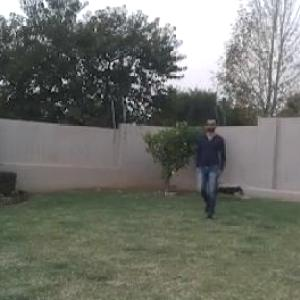follow: (195, 117, 225, 218)
